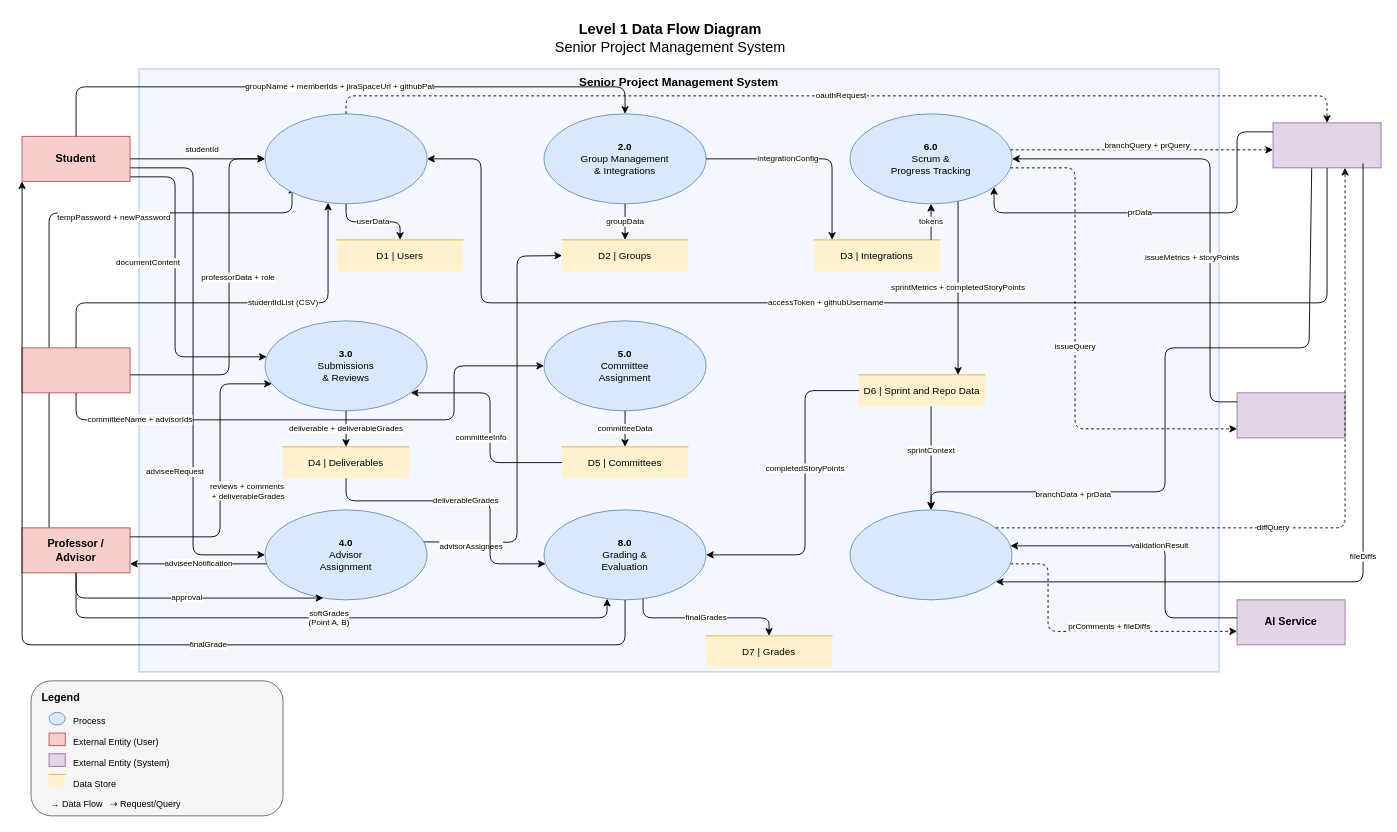
This 1397x832 diagram has some shape labels left out. Each missing label, with the centre of its shape:
"1.0 User Registration & Authentication" goes at (345,158).
"7.0 AI Validation" goes at (930,554).
"Coordinator" goes at (75,370).
"GitHub" goes at (1326,145).
"JIRA" goes at (1290,415).
